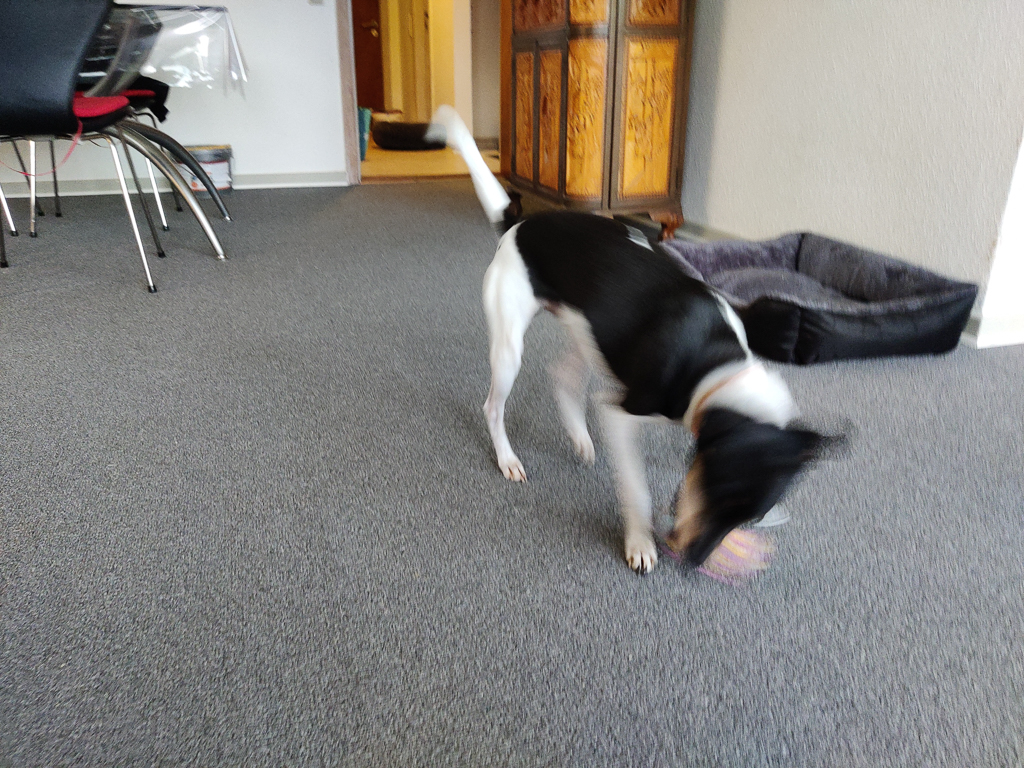Dog: (426, 97, 868, 597)
Humanoid: (622, 480, 787, 593)
